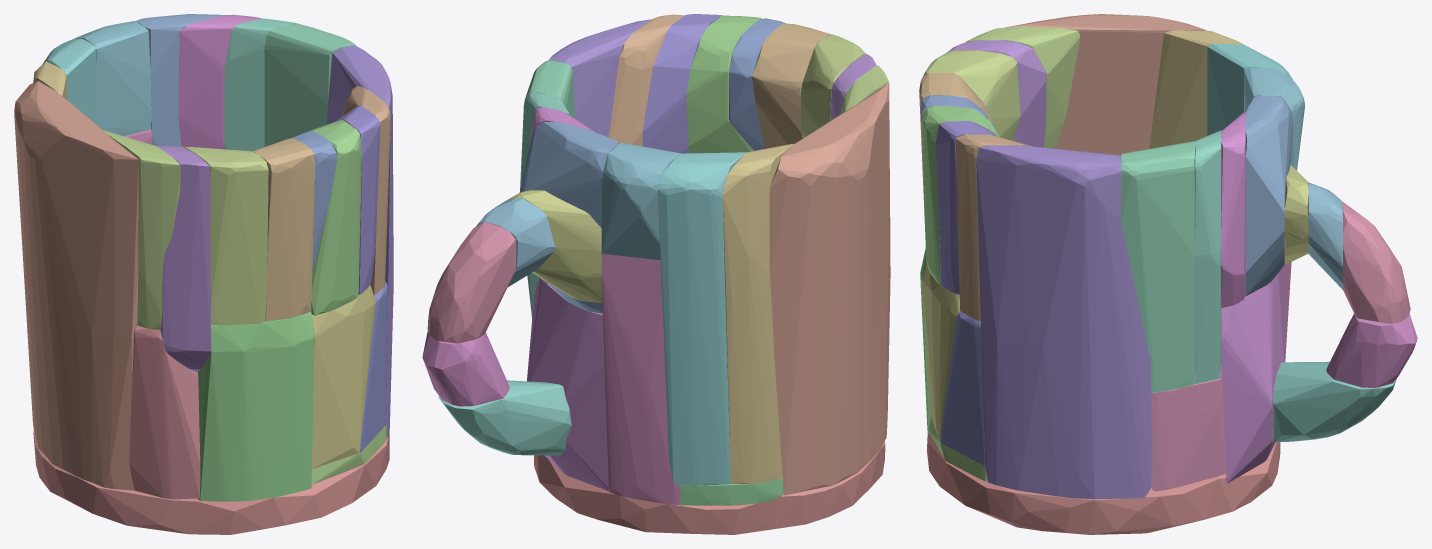
File: speckled_mug_hulls.glb
The picture shows the model from 3 angles, left to right: view 1: azimuth 30°, elevation 25°; view 2: azimuth 150°, elevation 25°; view 3: azimuth 270°, elevation 25°; orthographic projection.
Visible parts, largest first — view 1: geometry_0; view 2: geometry_0; view 3: geometry_0.
Part boxes in pixels (bbox=[...]): geometry_0: bbox=[14, 14, 393, 534]; geometry_0: bbox=[422, 14, 890, 534]; geometry_0: bbox=[919, 14, 1417, 534].
Size of the model in its own units: 0.0891 by 0.0974 by 0.1171.
